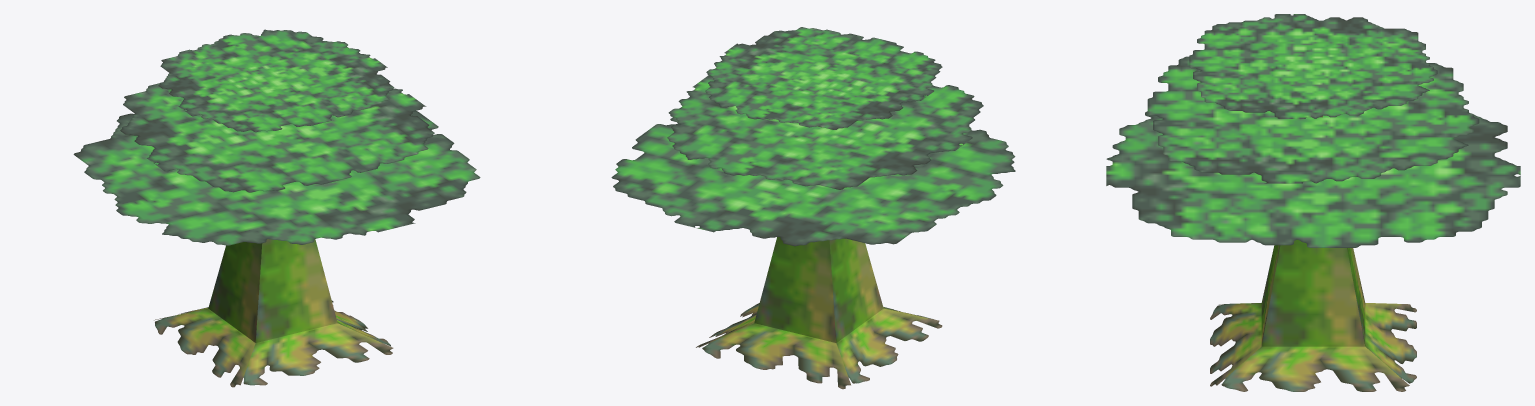
Rendered from tree.dae.
3 renders of one model, left to right at view 1: azimuth 30°, elevation 25°; view 2: azimuth 150°, elevation 25°; view 3: azimuth 270°, elevation 25°, orthographic. The views are drawn at different scales.
Parts seen in each view (by area): view 1: tree; view 2: tree; view 3: tree.
Part boxes in pixels (x1,y1,x2,y2): tree: (73,29,480,387); tree: (611,27,1015,389); tree: (1106,14,1520,391).
Bounding box in the file's own units: 2 × 2 × 1.5.
1 material, 1 textured.
